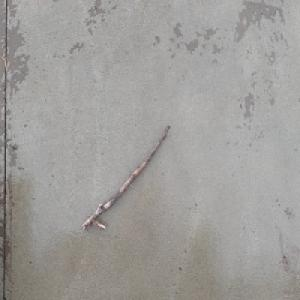Wood: (80, 122, 172, 231)
